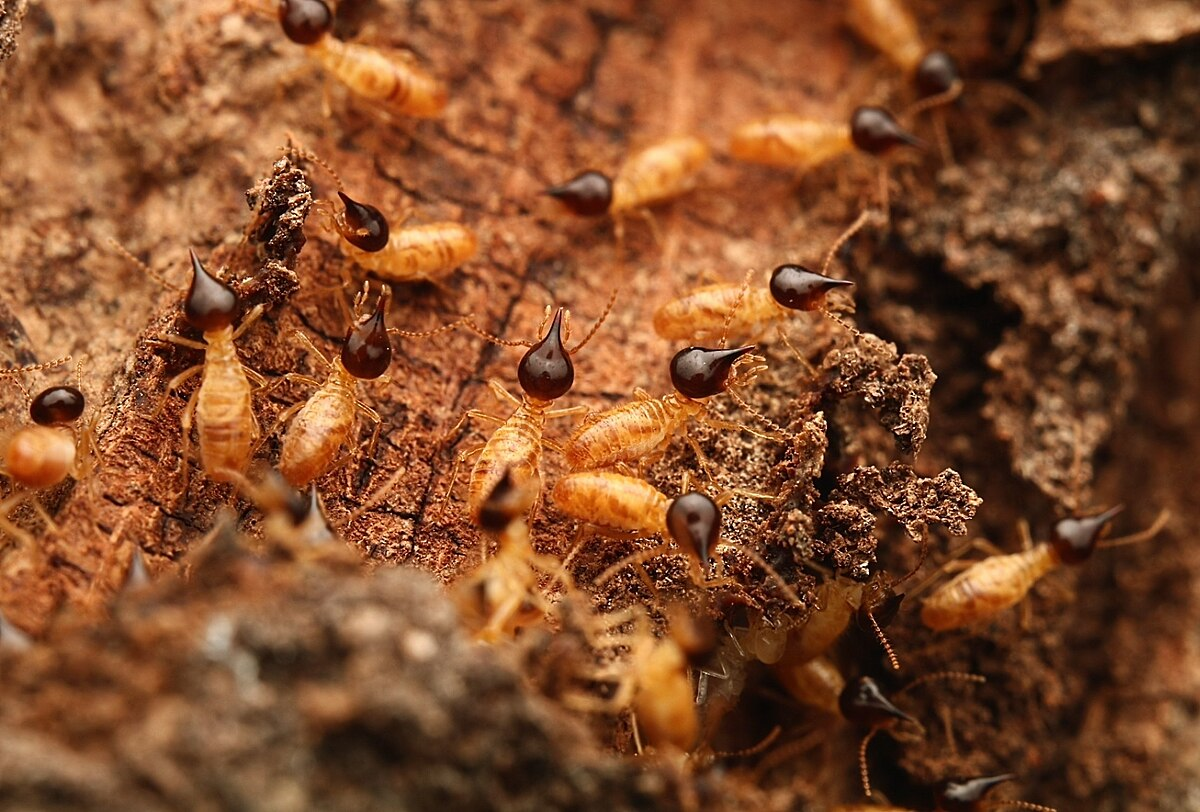nasutitermes corniger: (861, 458, 1158, 684), (523, 320, 840, 501), (431, 273, 617, 572), (523, 433, 775, 613), (686, 77, 987, 216), (303, 252, 436, 549), (153, 212, 283, 499), (598, 244, 899, 358)
